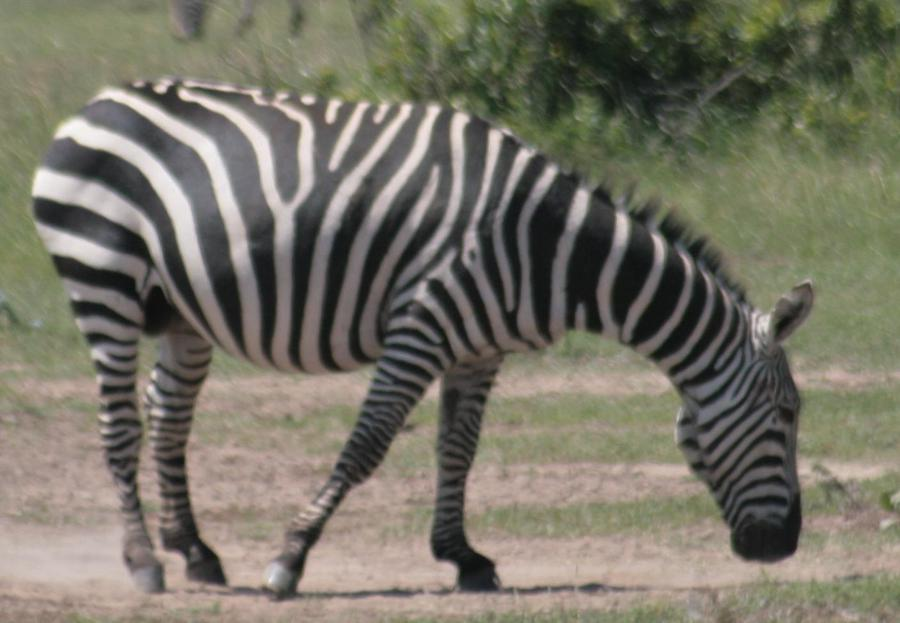zebra_plains: (8, 52, 548, 395)
